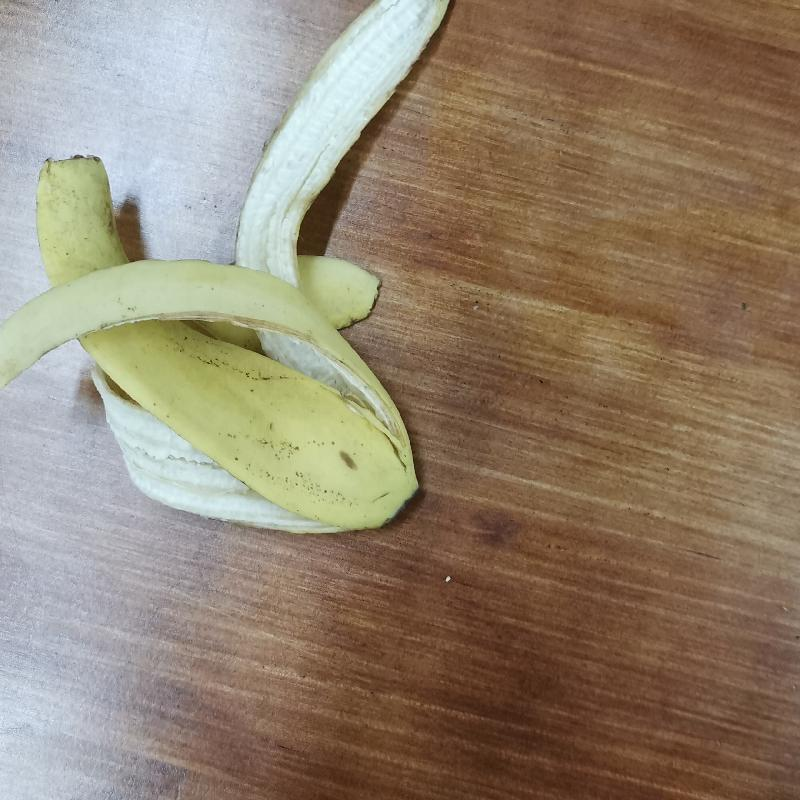bananas: (4, 2, 433, 535)
